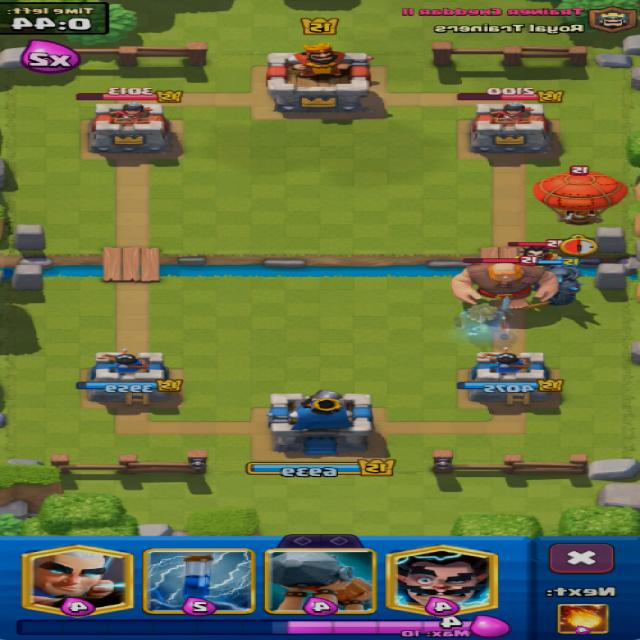Enemy-Balloon: (534, 166, 627, 225)
Enemy-ElectroWizard: (522, 247, 557, 260)
Enemy-Giant: (454, 262, 556, 308)
Enemy-KingTower: (268, 44, 371, 113)
Enemy-PrincessTower: (90, 102, 170, 154), (471, 102, 550, 152)
